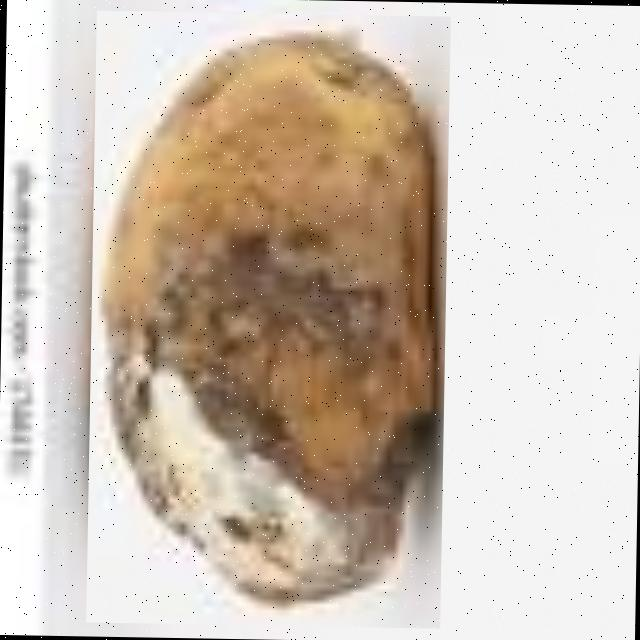Damaged potato: (84, 10, 450, 628)
